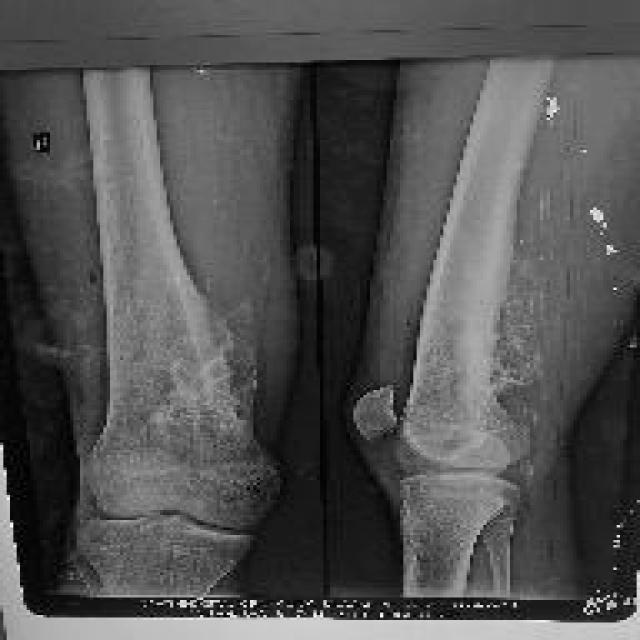bone-cancer: (144, 295, 273, 470), (422, 288, 540, 407)
